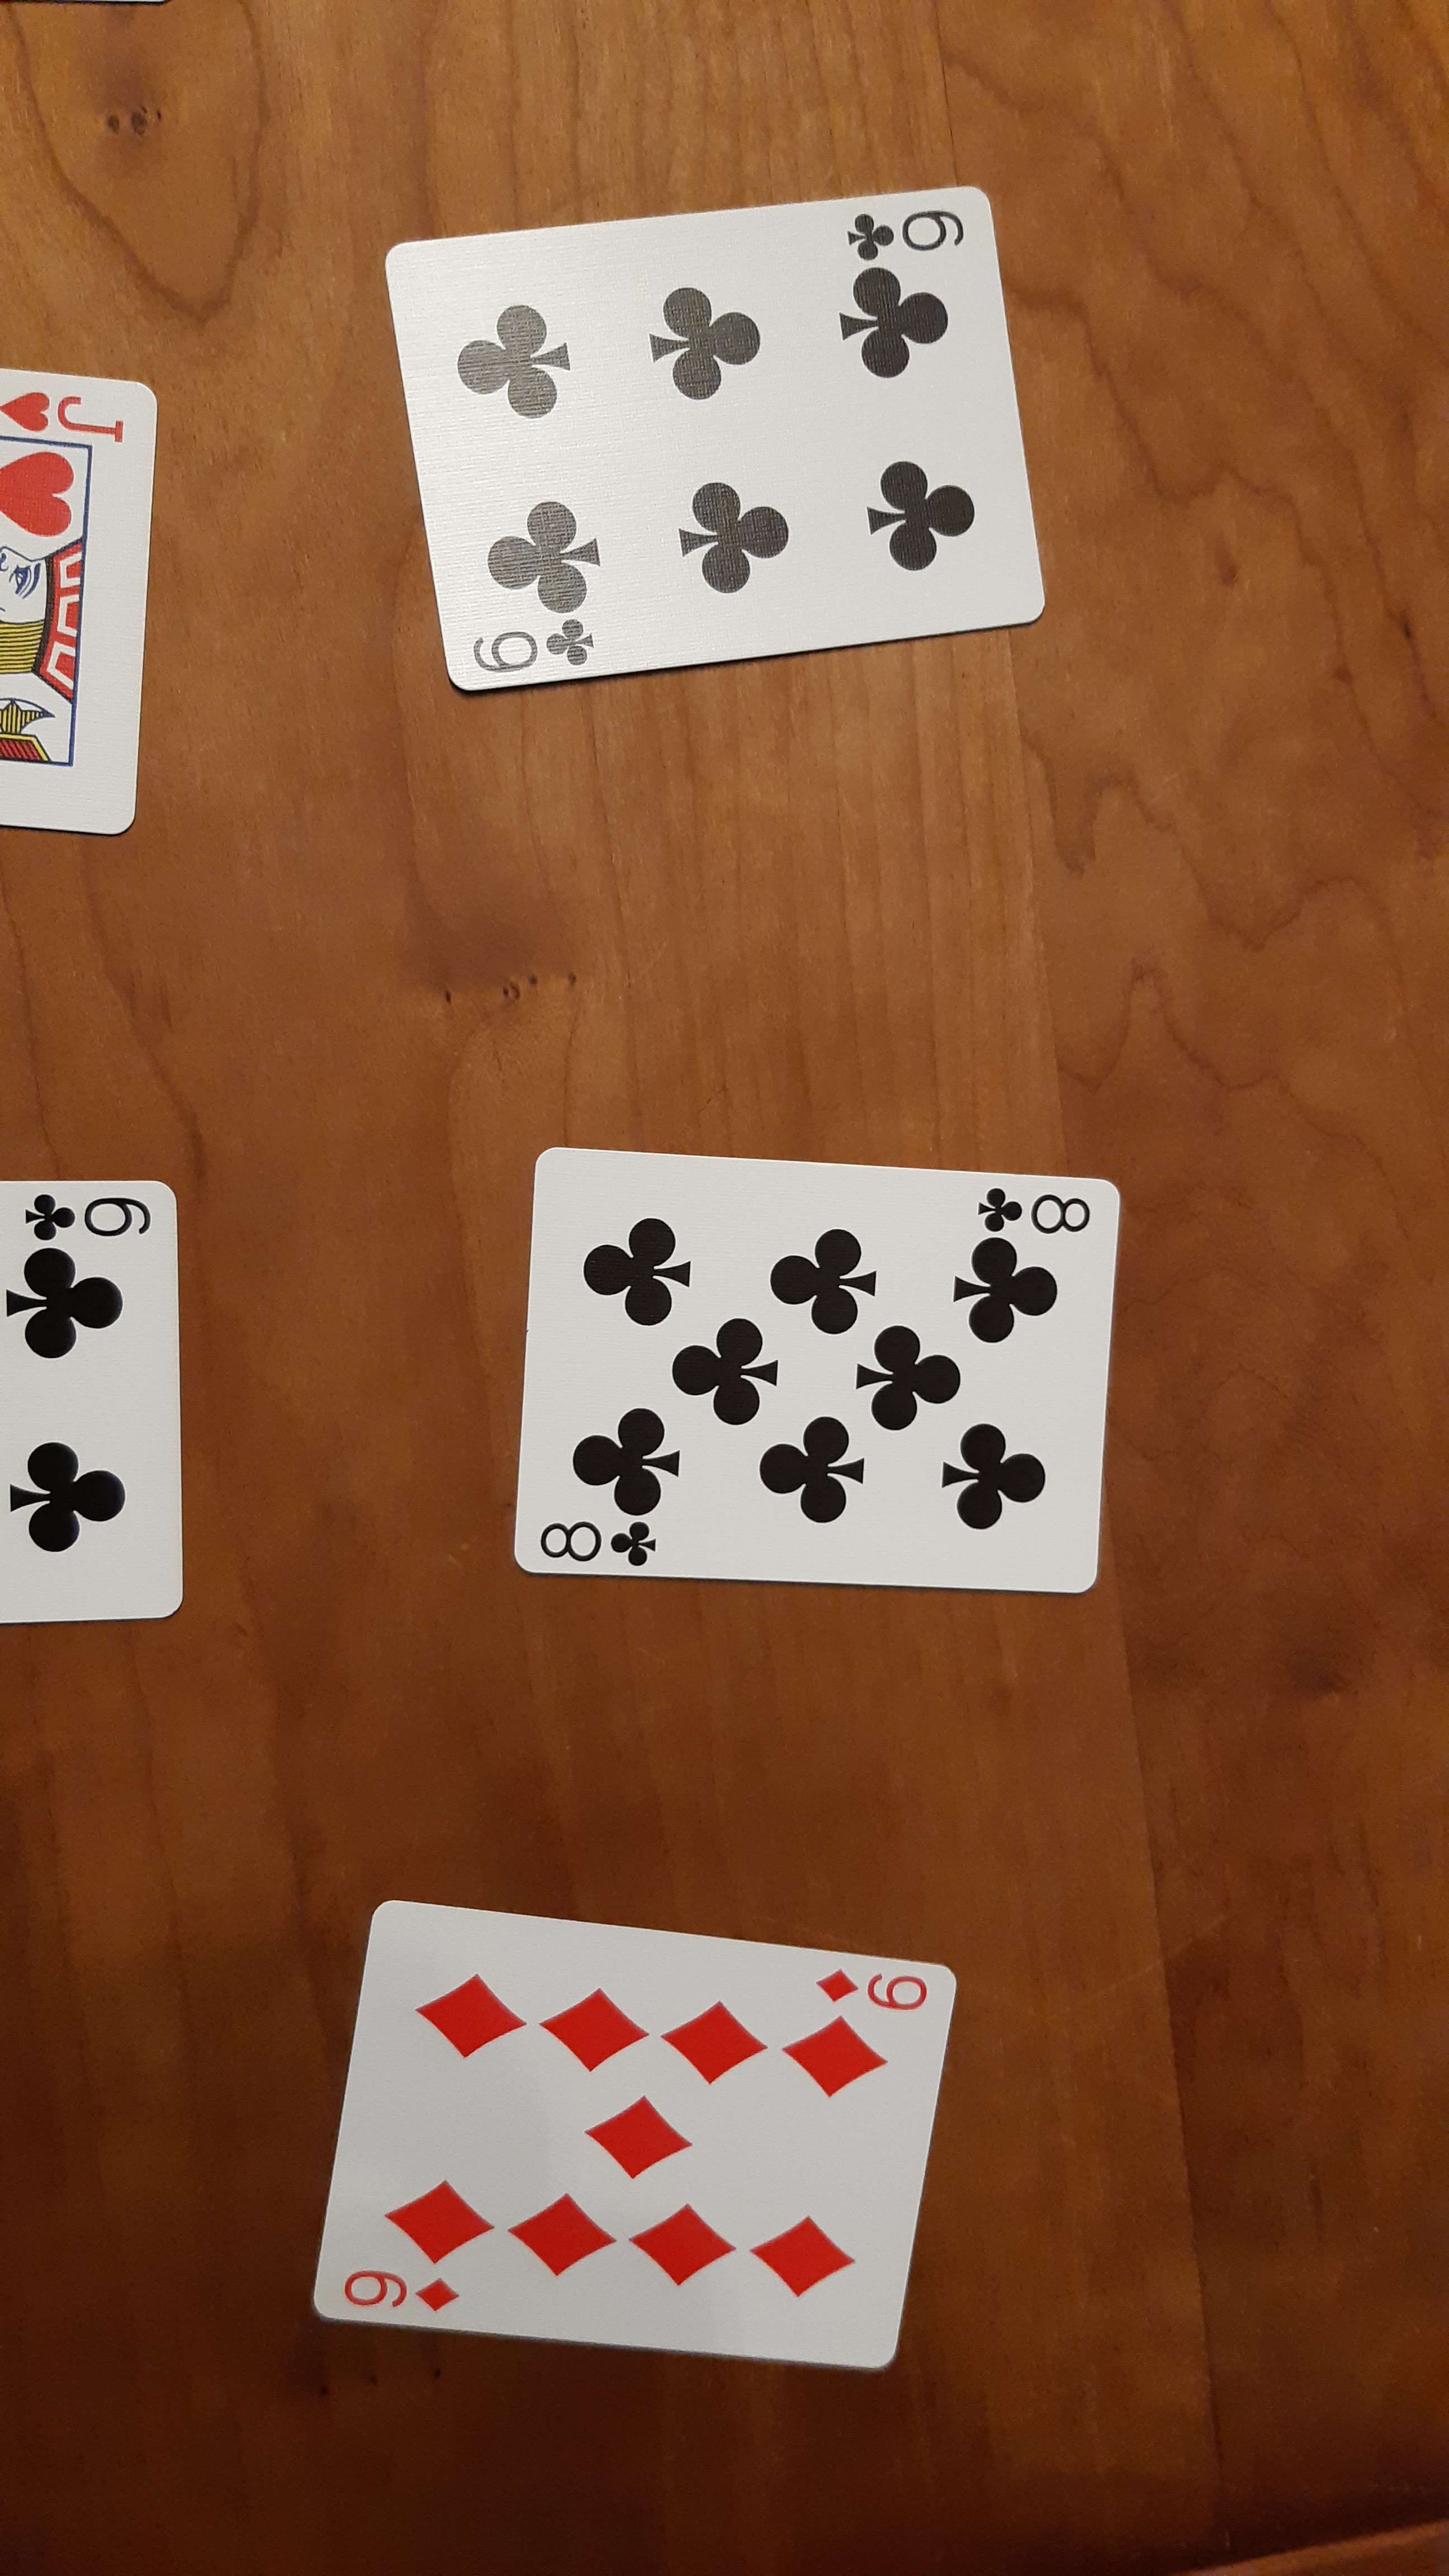Black_Club_6: (458, 193, 984, 702)
Black_Club_8: (522, 1500, 671, 1578), (961, 1182, 1100, 1249)
Red_Diamond_9: (331, 1930, 945, 2339)
Red_Heart_Jack: (2, 377, 138, 446)
